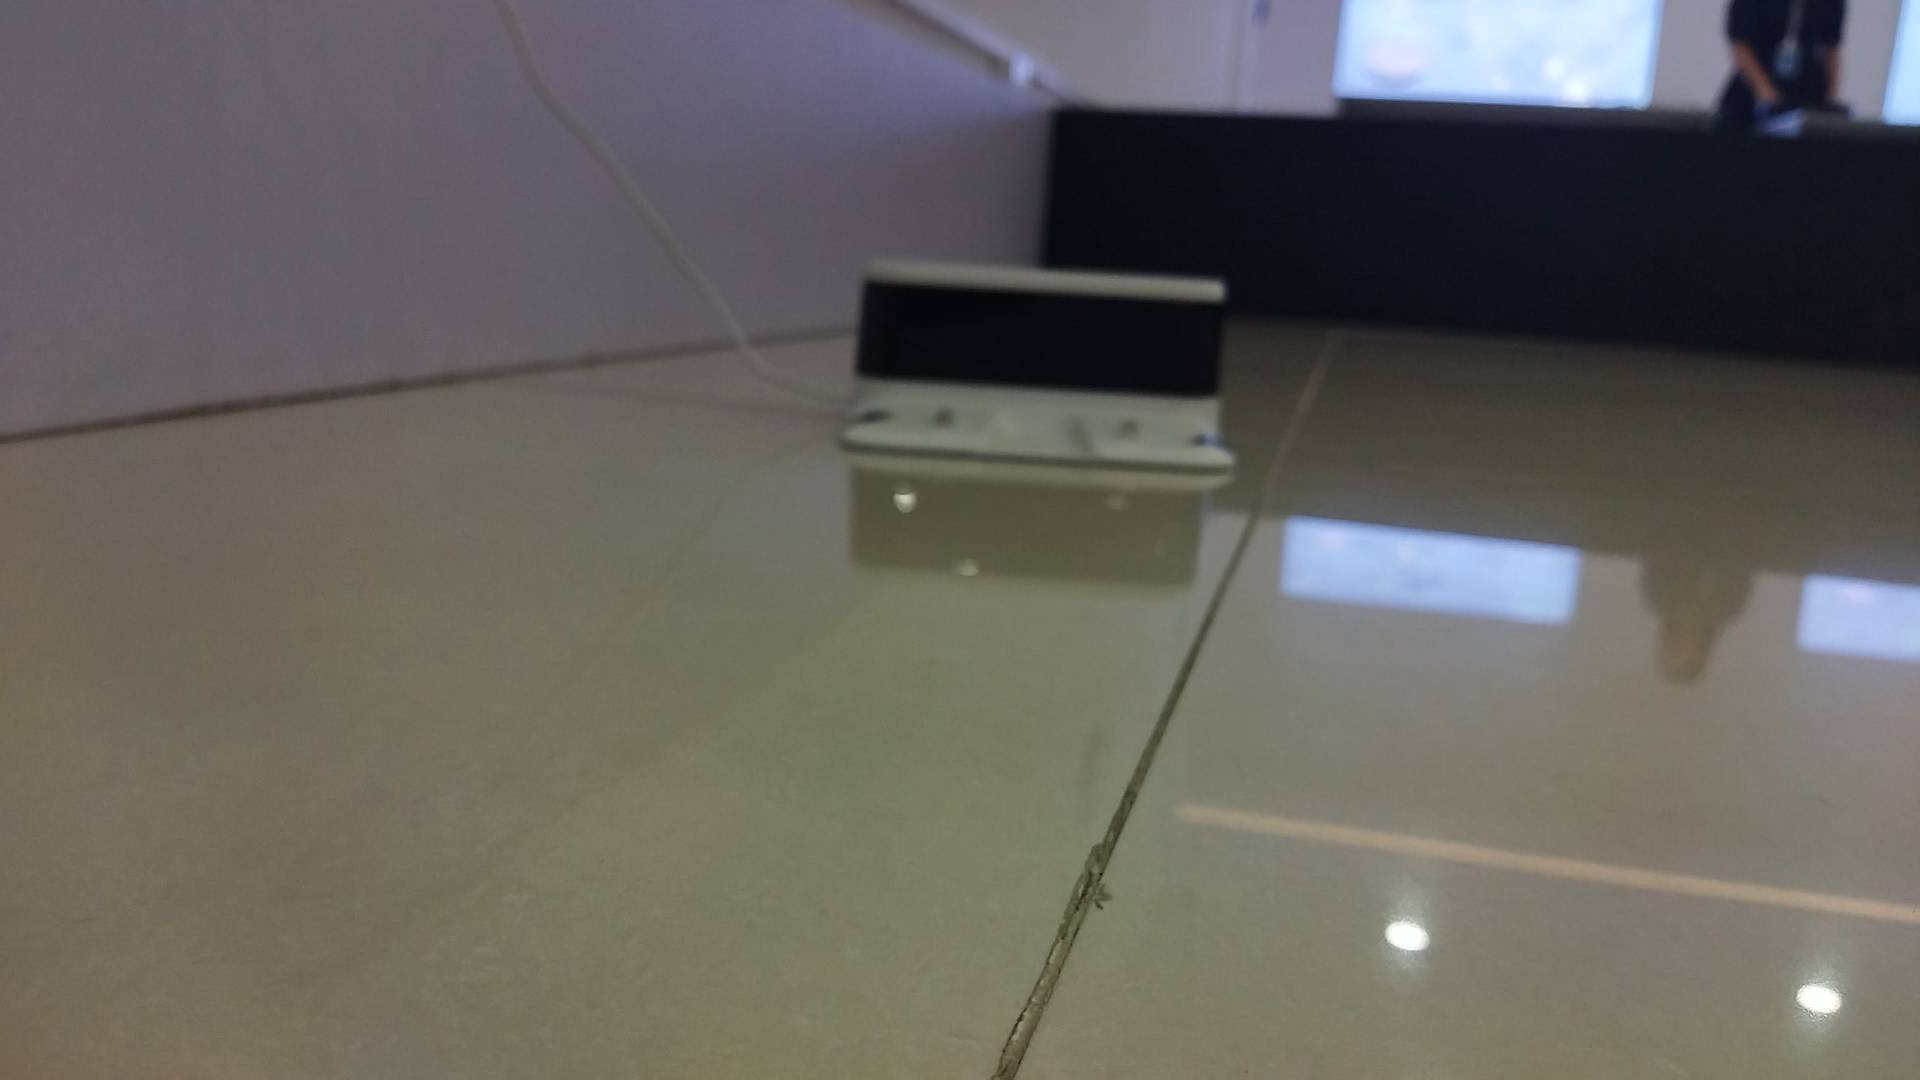recharge seat: (835, 255, 1244, 473)
